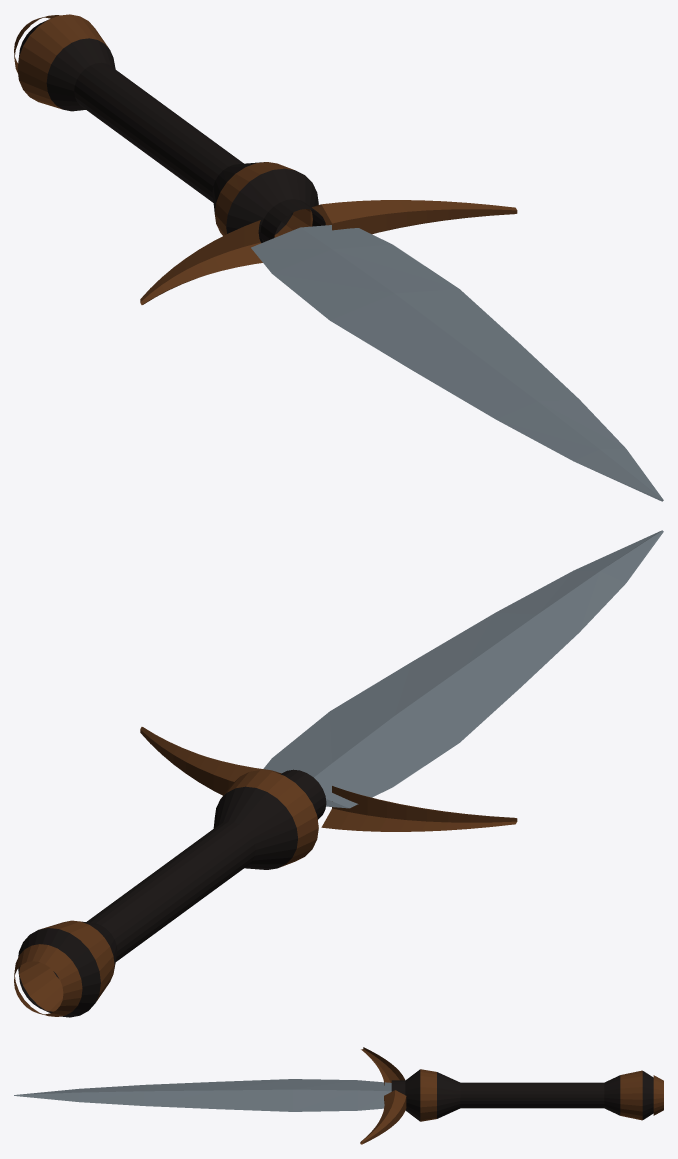
Rendered from sealbreaker_LOD0.obj.
3 views of the same model, one above another, from view 1: azimuth 30°, elevation 25°; view 2: azimuth 150°, elevation 25°; view 3: azimuth 270°, elevation 25° (orthographic). The views are drawn at different scales.
Bounding box in the file's own units: 0.242 × 0.056 × 0.699.
